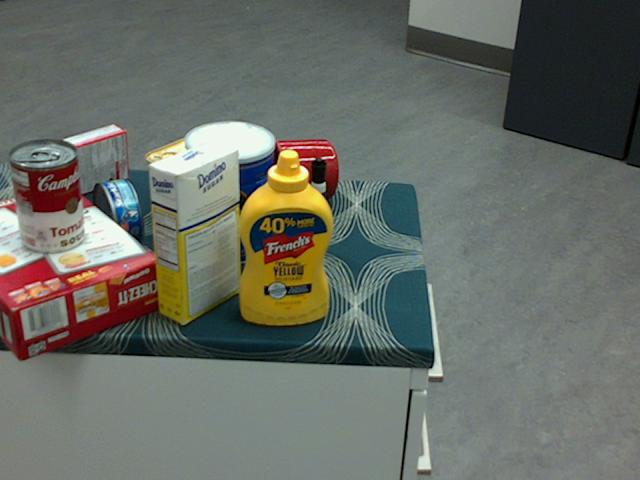cracker_box: (0, 181, 163, 360)
gelatin_box: (58, 124, 127, 197)
large_marker: (310, 157, 326, 251)
master_chef_can: (182, 120, 272, 264)
mug: (259, 135, 337, 207)
mustard_bottle: (239, 148, 333, 324)
potted_meat_can: (143, 133, 221, 224)
sugar_box: (147, 140, 241, 323)
tomato_soup_can: (8, 139, 84, 254)
tuna_fish_can: (90, 179, 141, 254)
